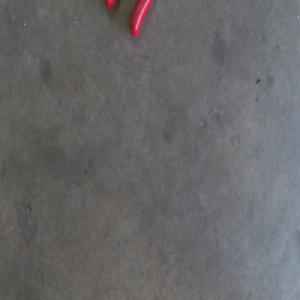Pliers: (103, 0, 151, 37)
